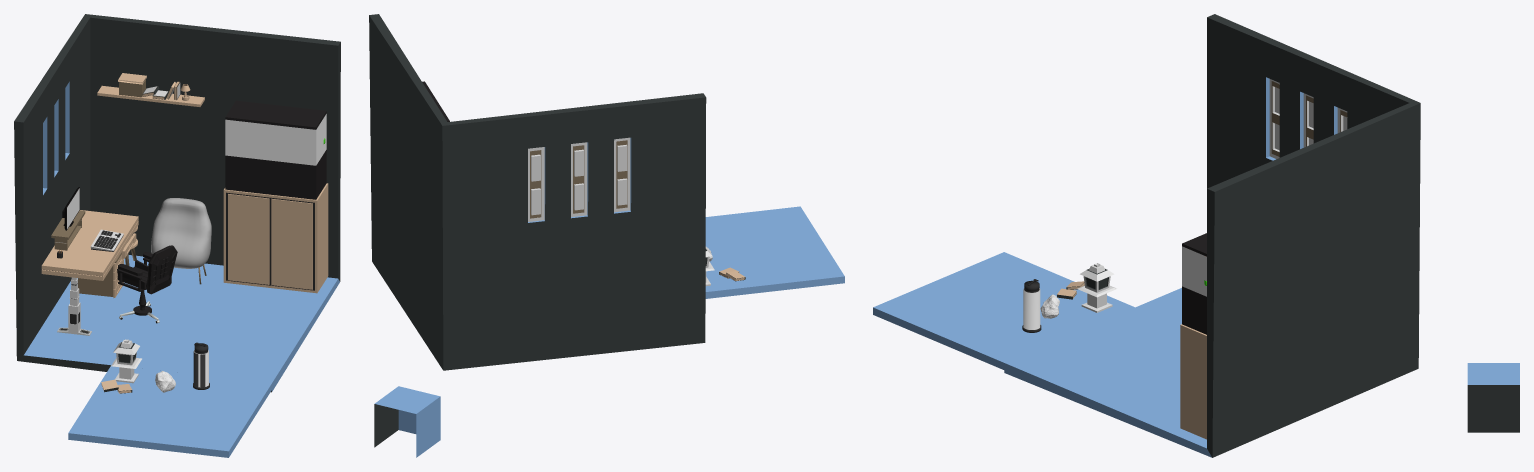
Rendered from Finalev2.glb.
The picture shows the model from 3 angles, left to right: view 1: azimuth 30°, elevation 25°; view 2: azimuth 150°, elevation 25°; view 3: azimuth 270°, elevation 25°; orthographic projection. The views are drawn at different scales.
Visible parts, largest first — view 1: RoomWalls, MiniFloor, Aparador, TableTops, AquariumFrame, Aquarium, Shelves, TableMiscs, Stands, FloorItems, Light, Tumbler (+1 smaller); view 2: RoomWalls, MiniFloor, Window, LoaderCube; view 3: RoomWalls, MiniFloor, LoaderCube, Aparador, Window, AquariumFrame, Light, Aquarium, Tumbler.
Part boxes in pixels (x1,y1,x2,y2): RoomWalls: (14,14,340,392); MiniFloor: (68,365,271,457); Aparador: (223,183,328,293); TableTops: (41,198,211,315); AquariumFrame: (225,100,326,199); Aquarium: (225,114,326,165); Shelves: (97,73,204,106); TableMiscs: (51,210,123,258); Stands: (68,236,206,334); FloorItems: (57,253,159,335); Light: (111,339,141,383); Tumbler: (193,342,209,389); RoomWalls: (369,14,706,370); MiniFloor: (705,206,844,298); Window: (528,137,630,221); LoaderCube: (374,386,440,457); RoomWalls: (1004,14,1420,457); MiniFloor: (873,252,1134,369); LoaderCube: (1467,363,1519,432); Aparador: (1180,324,1206,439); Window: (1269,79,1347,158); AquariumFrame: (1182,233,1206,334); Light: (1077,263,1117,312); Aquarium: (1182,246,1206,296); Tumbler: (1022,279,1041,332).
Size of the model in its own units: 18.05 by 13.38 by 24.69.
